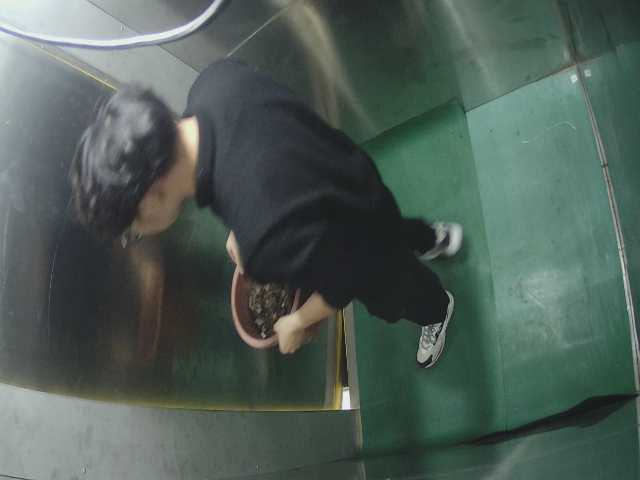flowerpot: (207, 255, 313, 354)
person: (68, 86, 474, 377)
